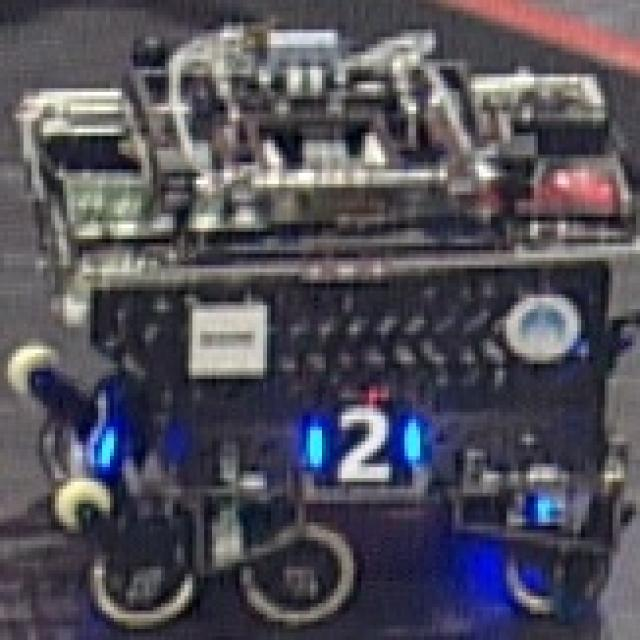B2: (300, 397, 434, 482), (70, 388, 130, 473)
